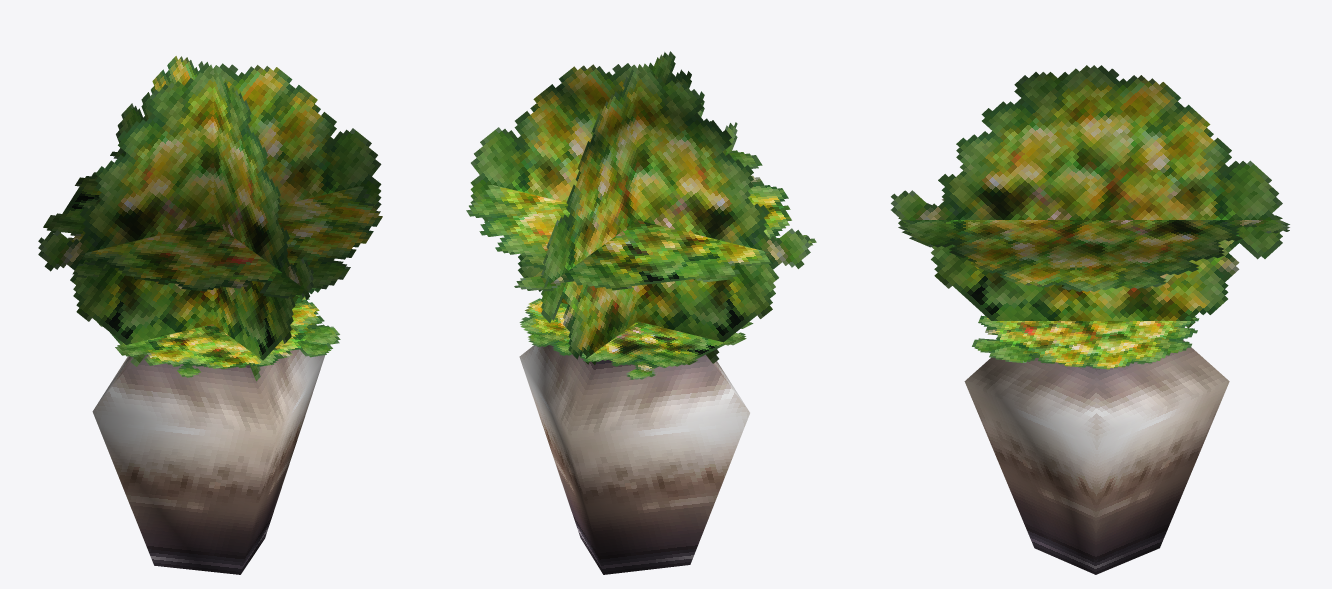
File: a_SCfwpot03.glb
3 views of the same model, side by side, from view 1: azimuth 30°, elevation 25°; view 2: azimuth 150°, elevation 25°; view 3: azimuth 270°, elevation 25° (orthographic).
Visible parts, largest first — view 1: a_SCfwpot03; view 2: a_SCfwpot03; view 3: a_SCfwpot03.
Part boxes in pixels (x1,y1,x2,y2): a_SCfwpot03: [38, 56, 382, 574]; a_SCfwpot03: [466, 51, 816, 574]; a_SCfwpot03: [891, 65, 1289, 574].
Bounding box in the file's own units: 0.4322 × 0.5612 × 0.4322.
Materials: 2 (2 with a texture image).
